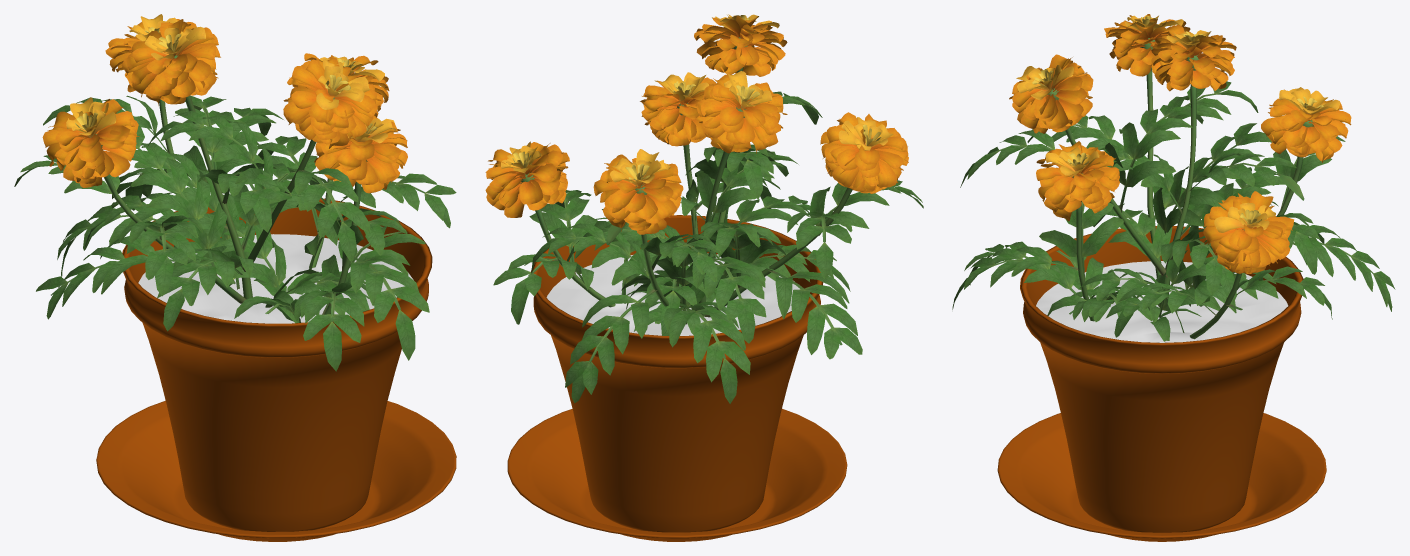
File: flower1.fbx
3 renders of one model, left to right at view 1: azimuth 30°, elevation 25°; view 2: azimuth 150°, elevation 25°; view 3: azimuth 270°, elevation 25°, orthographic. The views are drawn at different scales.
Visible parts, largest first — view 1: Object_14, Object_13, Object_11, Object_16, Object_12, Object_10, Object_9; view 2: Object_14, Object_13, Object_11, Object_16, Object_12, Object_10, Object_9; view 3: Object_14, Object_13, Object_11, Object_12, Object_16, Object_10, Object_9.
Part boxes in pixels (x1,y1,x2,y2): Object_14: (96, 198, 456, 541); Object_13: (14, 95, 456, 371); Object_11: (42, 19, 407, 193); Object_16: (51, 55, 425, 322); Object_12: (138, 234, 413, 323); Object_10: (66, 14, 396, 143); Object_9: (75, 27, 377, 133); Object_14: (507, 215, 847, 541); Object_13: (493, 91, 923, 403); Object_11: (485, 16, 908, 234); Object_16: (520, 37, 852, 363); Object_12: (546, 253, 799, 335); Object_10: (501, 14, 893, 186); Object_9: (511, 15, 881, 180); Object_14: (997, 226, 1326, 541); Object_13: (952, 81, 1395, 341); Object_11: (1009, 14, 1351, 273); Object_12: (1036, 261, 1288, 342); Object_16: (990, 38, 1375, 339); Object_10: (1016, 15, 1340, 232); Object_9: (1032, 16, 1323, 224).
Size of the model in its own units: 1364 by 1585 by 1451.
